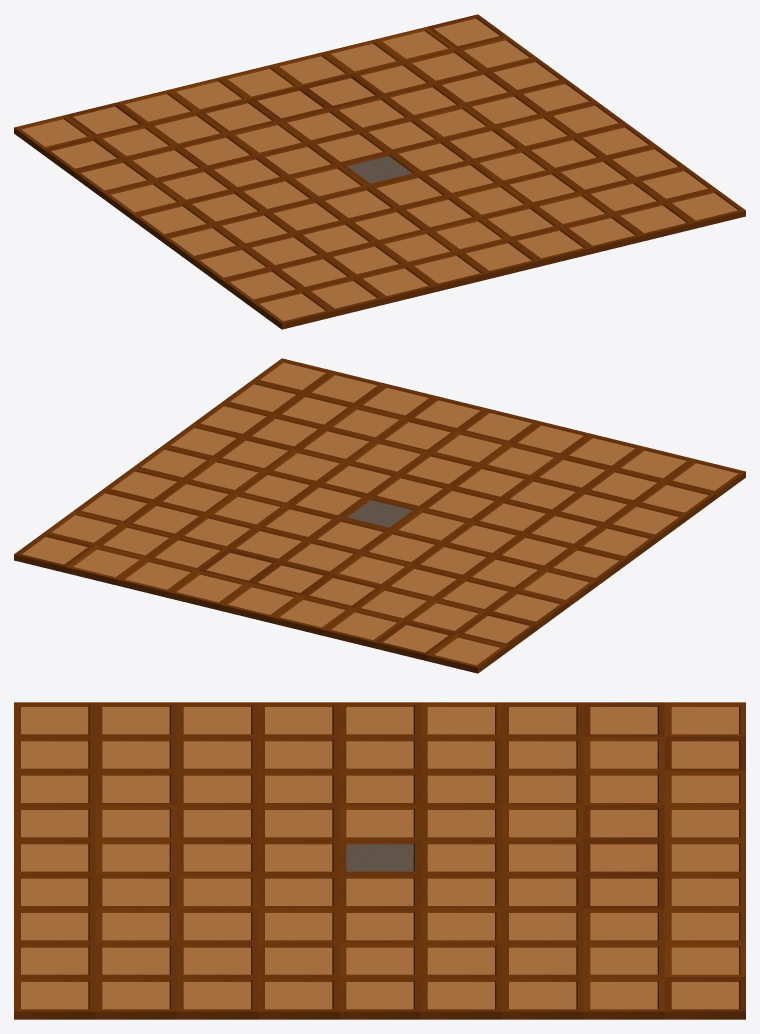
File: Board.fbx
The picture shows the model from 3 angles, top to bottom: view 1: azimuth 30°, elevation 25°; view 2: azimuth 150°, elevation 25°; view 3: azimuth 270°, elevation 25°; orthographic projection. The views are drawn at different scales.
Parts seen in each view (by area): view 1: Board; view 2: Board; view 3: Board.
Part boxes in pixels (box(x1,y1,x2,y2)): Board: box(14, 14, 745, 329); Board: box(14, 358, 745, 673); Board: box(14, 702, 745, 1019).
Size of the model in its own units: 1800 by 22.47 by 1800.
